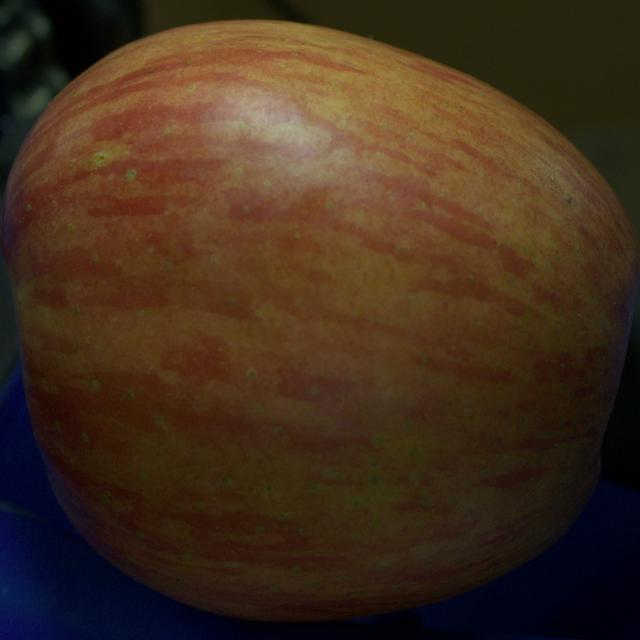apple: (0, 21, 639, 621)
